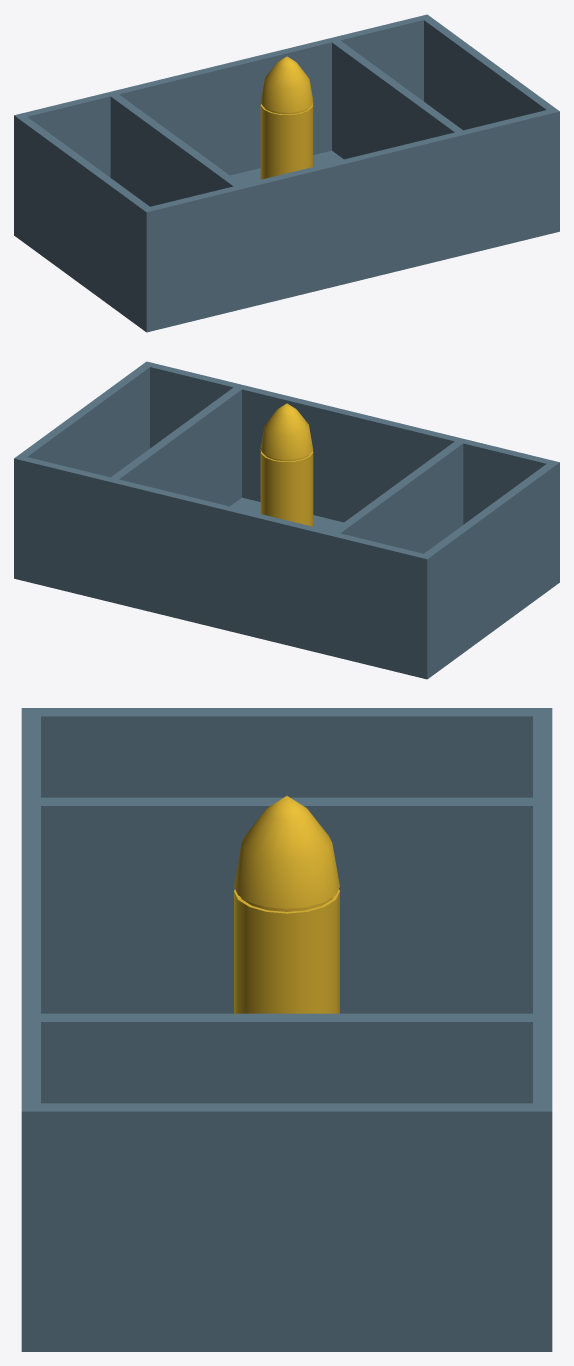
3 views of the same model, one above another, from view 1: azimuth 30°, elevation 25°; view 2: azimuth 150°, elevation 25°; view 3: azimuth 270°, elevation 25° (orthographic). The views are drawn at different scales.
Visible parts, largest first — view 1: box.2, box, bullet; view 2: box.2, box, bullet; view 3: box.2, box, bullet.
Boxes of the visible parts, x1,y1,x2,y2 form: box.2: (14, 14, 559, 332); box: (108, 37, 467, 309); bullet: (260, 56, 313, 179); box.2: (14, 361, 559, 679); box: (106, 384, 466, 656); bullet: (260, 403, 313, 526); box.2: (21, 708, 552, 1351); box: (21, 797, 552, 1103); bullet: (234, 796, 339, 1013).
Size of the model in its own units: 3.6 by 1.47 by 2.
